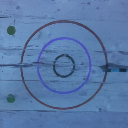Axe Tip: (99, 65, 109, 68)
